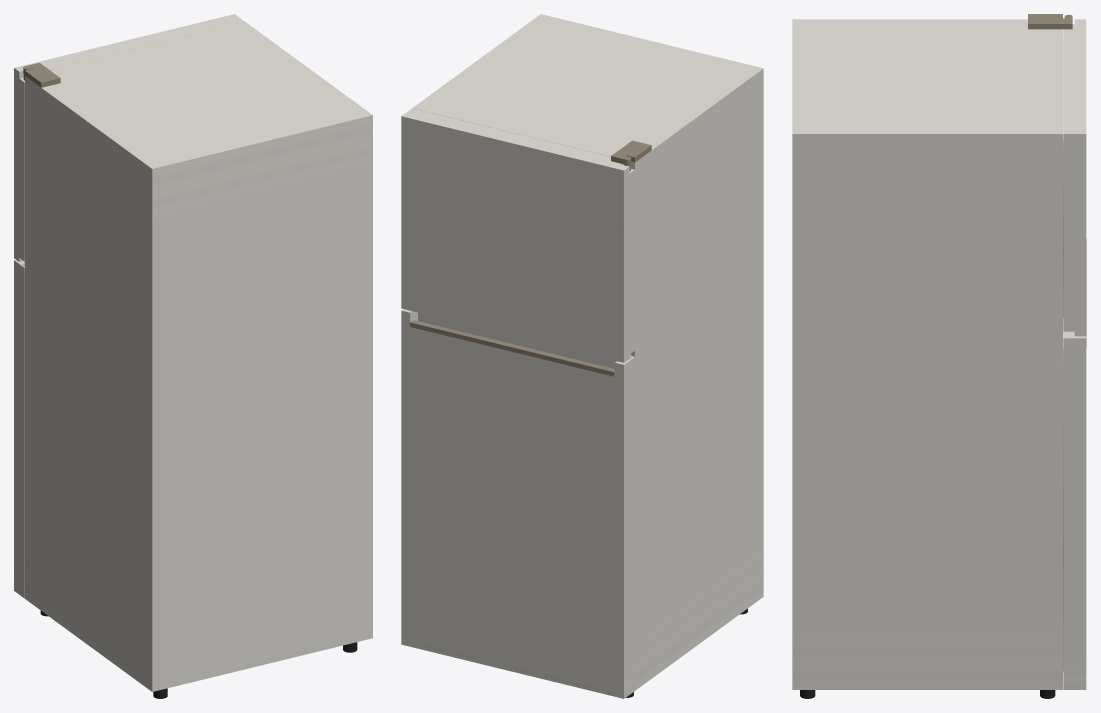
File: Refrigerator02.glb
3 views of the same model, side by side, from view 1: azimuth 30°, elevation 25°; view 2: azimuth 150°, elevation 25°; view 3: azimuth 270°, elevation 25° (orthographic). The views are drawn at different scales.
Visible parts, largest first — view 1: Refrigerator02_model, Refrigerator02_Door01, Refrigerator02_Door02; view 2: Refrigerator02_model, Refrigerator02_Door02, Refrigerator02_Door01; view 3: Refrigerator02_model, Refrigerator02_Door02, Refrigerator02_Door01.
Part boxes in pixels (x1,y1,x2,y2): Refrigerator02_model: (22,22,372,698); Refrigerator02_Door01: (14,14,244,261); Refrigerator02_Door02: (14,260,24,598); Refrigerator02_model: (412,14,763,697); Refrigerator02_Door02: (401,309,634,698); Refrigerator02_Door01: (401,108,634,362); Refrigerator02_model: (792,14,1072,698); Refrigerator02_Door02: (1063,239,1086,689); Refrigerator02_Door01: (1063,19,1086,336).
Bounding box in the file's own units: 1.62 × 3.79 × 1.76.
1 material, 1 textured.
